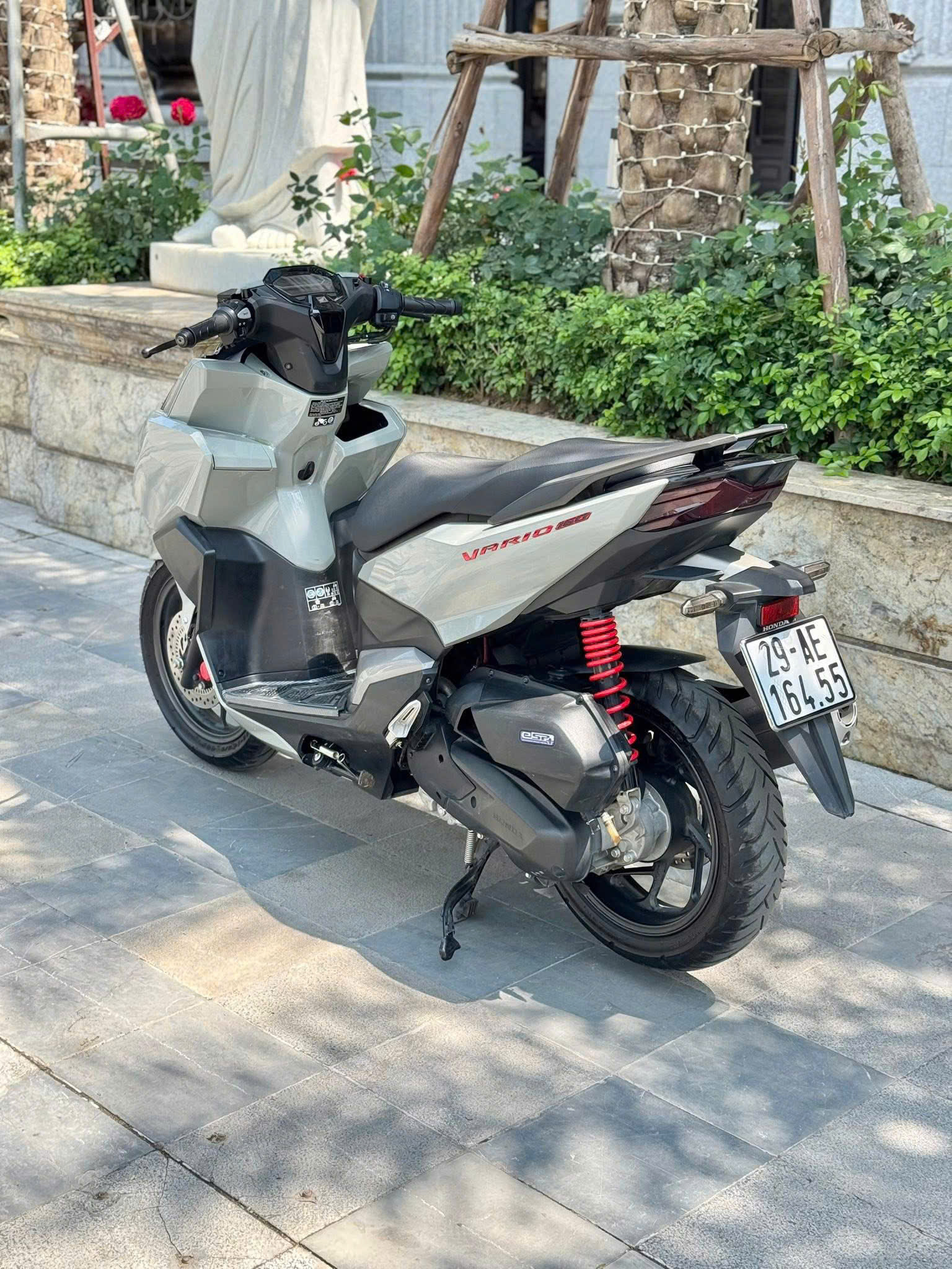Bien-so: (742, 613, 859, 733)
